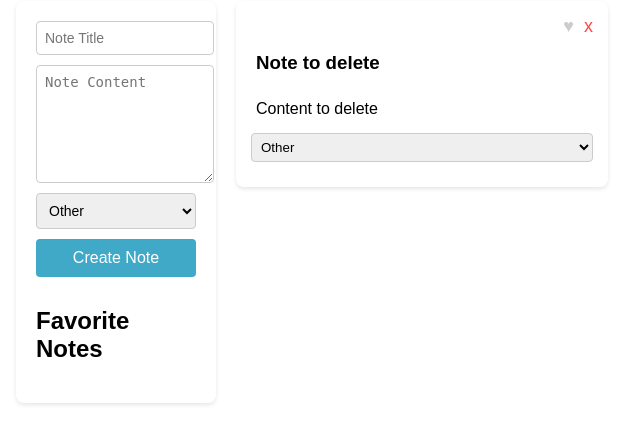
StickyNotes Component › deletes a note
Click the button "x" at (588, 26), box [584,16,593,37]
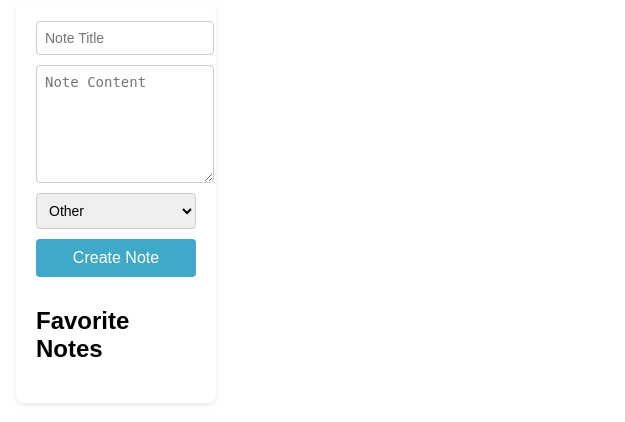
Expected: the heading "Note to delete" is gone
